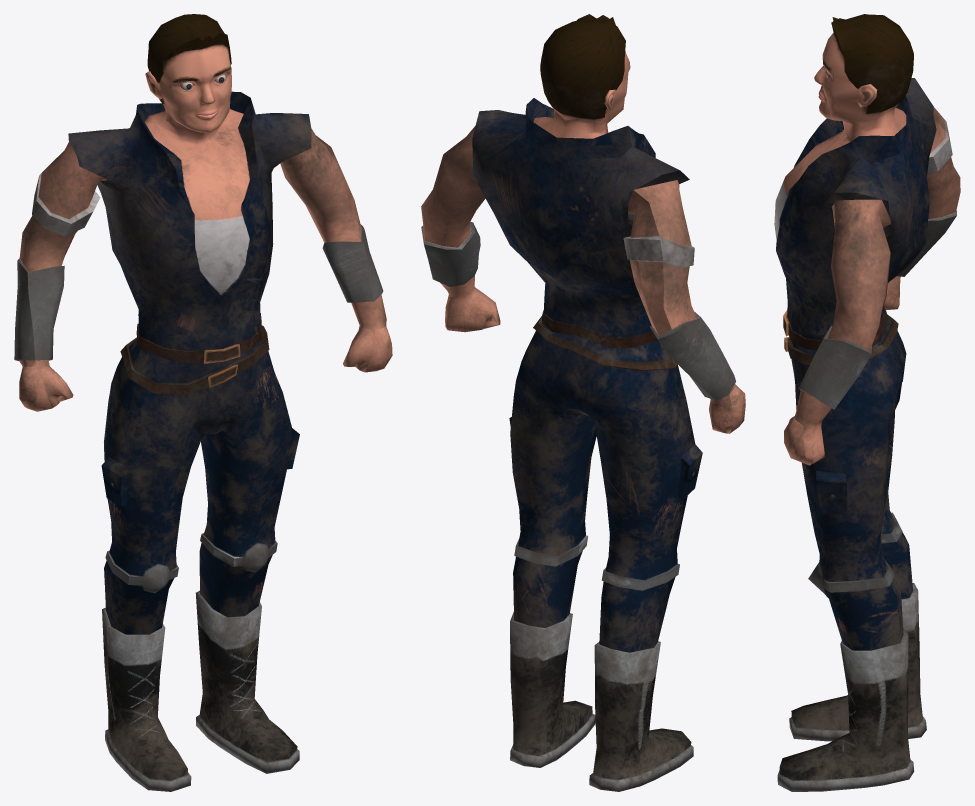
File: Anim_ataque_d1_jugador.0016.obj
3 renders of one model, left to right at view 1: azimuth 30°, elevation 25°; view 2: azimuth 150°, elevation 25°; view 3: azimuth 270°, elevation 25°, orthographic.
Visible parts, largest first — view 1: polySurface1; view 2: polySurface1; view 3: polySurface1.
Part boxes in pixels (bbox=[...]): polySurface1: bbox=[14, 14, 392, 791]; polySurface1: bbox=[421, 14, 745, 791]; polySurface1: bbox=[774, 14, 960, 791].
Bounding box in the file's own units: 4.59 × 9.66 × 2.2.
